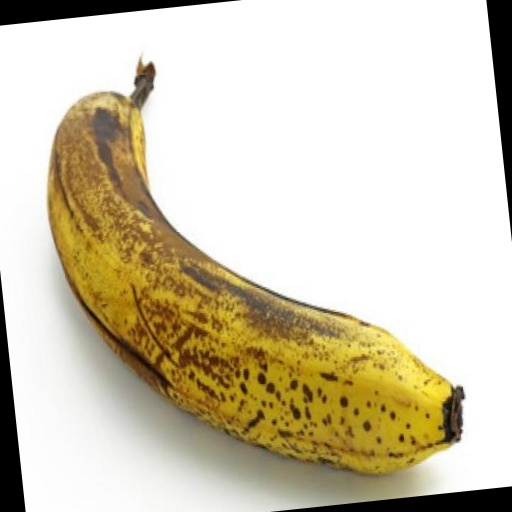fruit: (0, 0, 327, 214)
